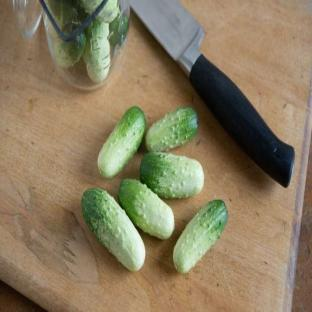Cucumber: (82, 189, 145, 271), (174, 200, 228, 273), (98, 107, 145, 178), (119, 179, 174, 239), (140, 153, 204, 198), (146, 108, 198, 151), (83, 20, 110, 82), (54, 32, 85, 68), (109, 10, 129, 46), (87, 55, 110, 83)
